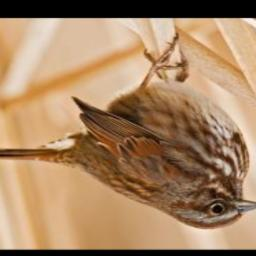Sparrow: (0, 33, 256, 231)
